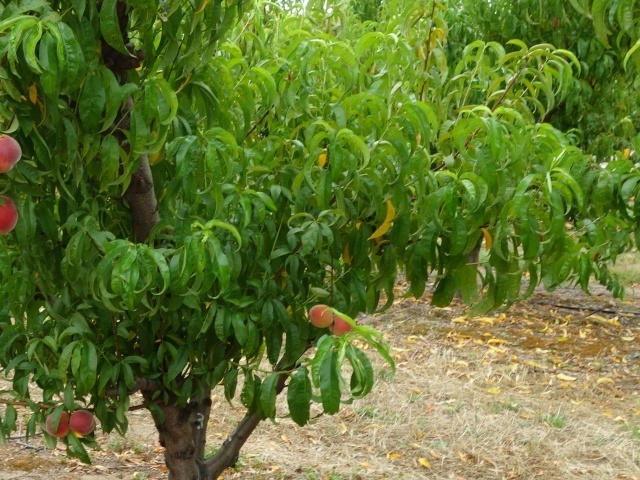peach: (1, 130, 26, 176), (65, 404, 98, 438), (42, 406, 73, 439), (1, 191, 22, 238), (325, 310, 356, 341), (303, 302, 336, 331)
